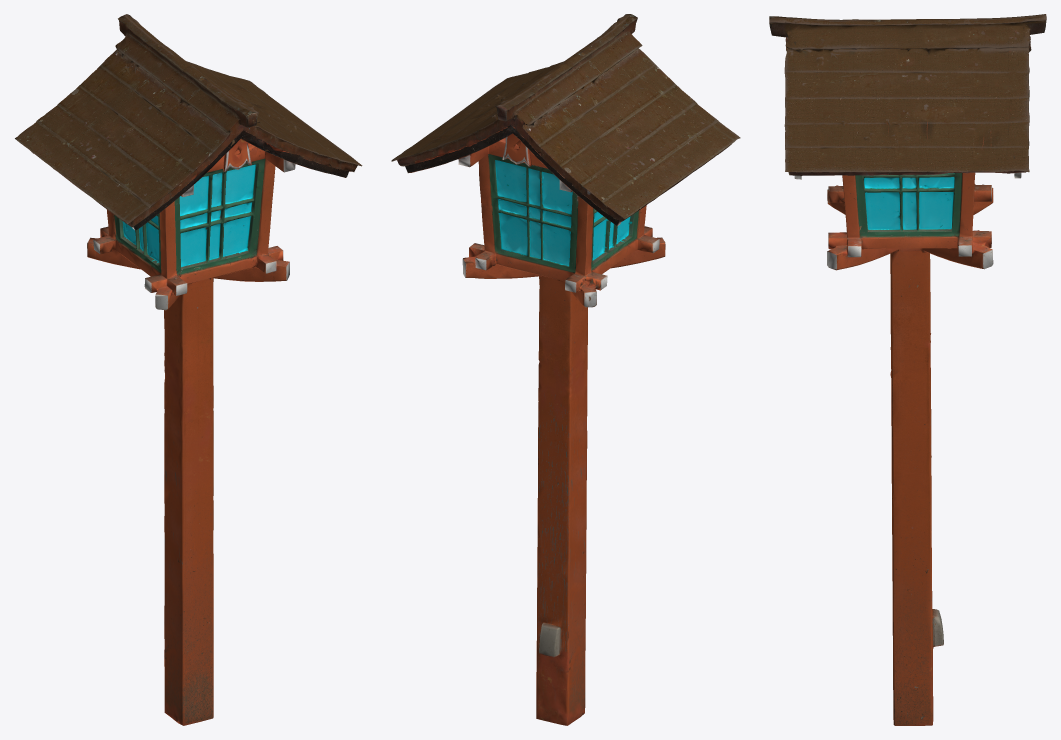
Rendered from lamp.obj.
3 renders of one model, left to right at view 1: azimuth 30°, elevation 25°; view 2: azimuth 150°, elevation 25°; view 3: azimuth 270°, elevation 25°, orthographic. The views are drawn at different scales.
Visible parts, largest first — view 1: Aset_props_wood_M_vevjfb3qx_LOD0; view 2: Aset_props_wood_M_vevjfb3qx_LOD0; view 3: Aset_props_wood_M_vevjfb3qx_LOD0.
Part boxes in pixels (left/top/right/bottom): Aset_props_wood_M_vevjfb3qx_LOD0: left=15, top=14, right=362, bottom=725; Aset_props_wood_M_vevjfb3qx_LOD0: left=391, top=14, right=740, bottom=725; Aset_props_wood_M_vevjfb3qx_LOD0: left=769, top=14, right=1046, bottom=725.
Bounding box in the file's own units: 0.792 × 2.11 × 0.7546.
1 material, 1 textured.
